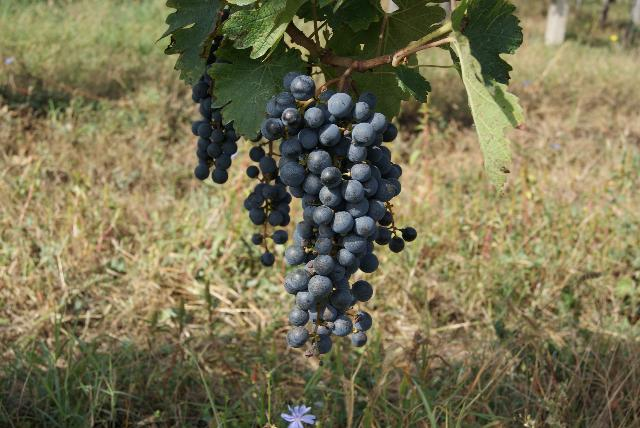grapes: (245, 71, 416, 358)
